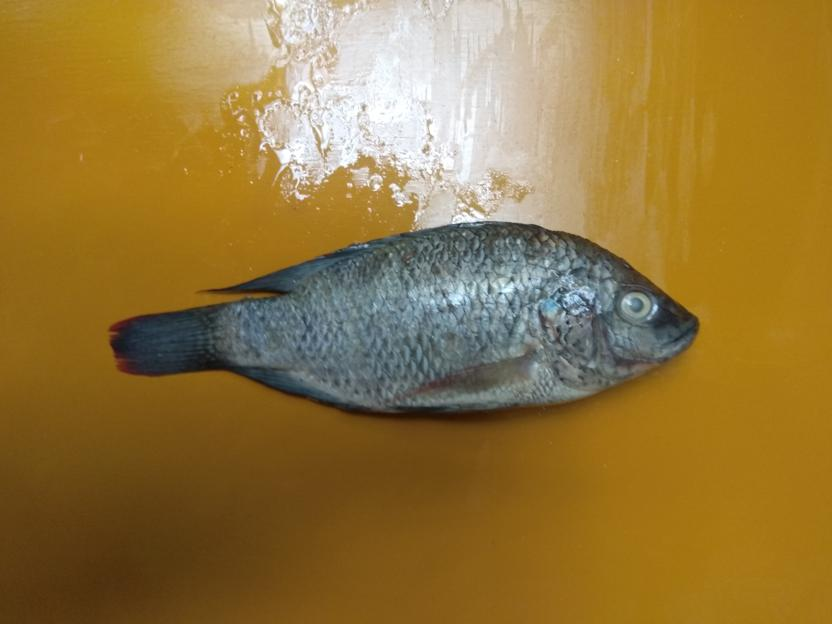Fish head: (539, 249, 700, 392)
Fish tail: (107, 300, 239, 378)
